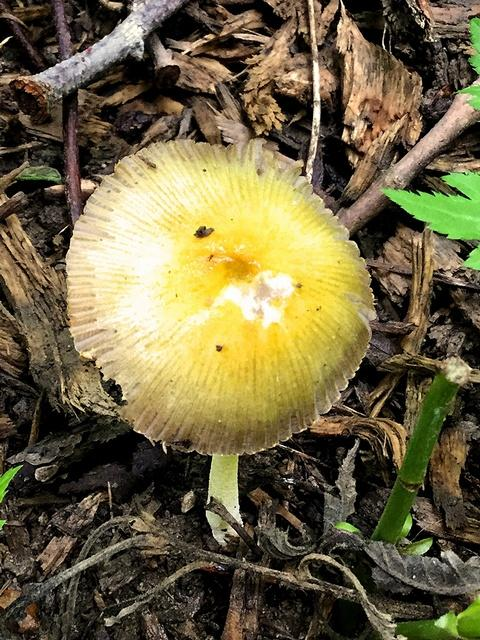Edible Mushroom: (63, 135, 377, 548)
